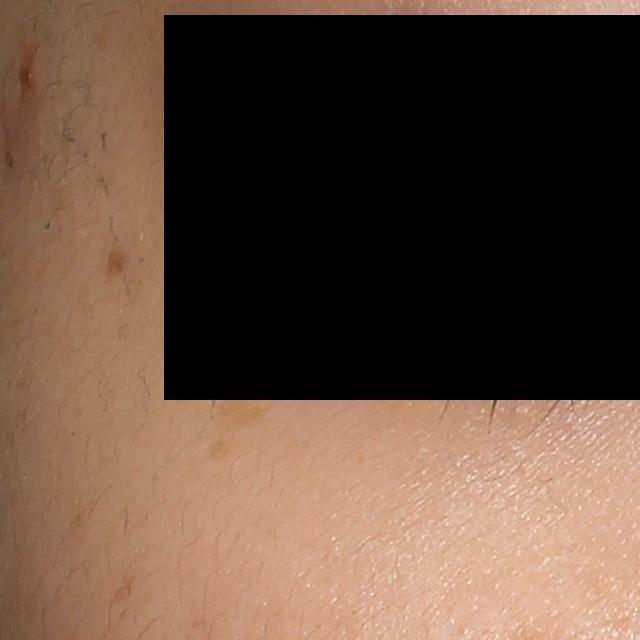melasma: (210, 379, 273, 460)
papule: (16, 50, 48, 94)
